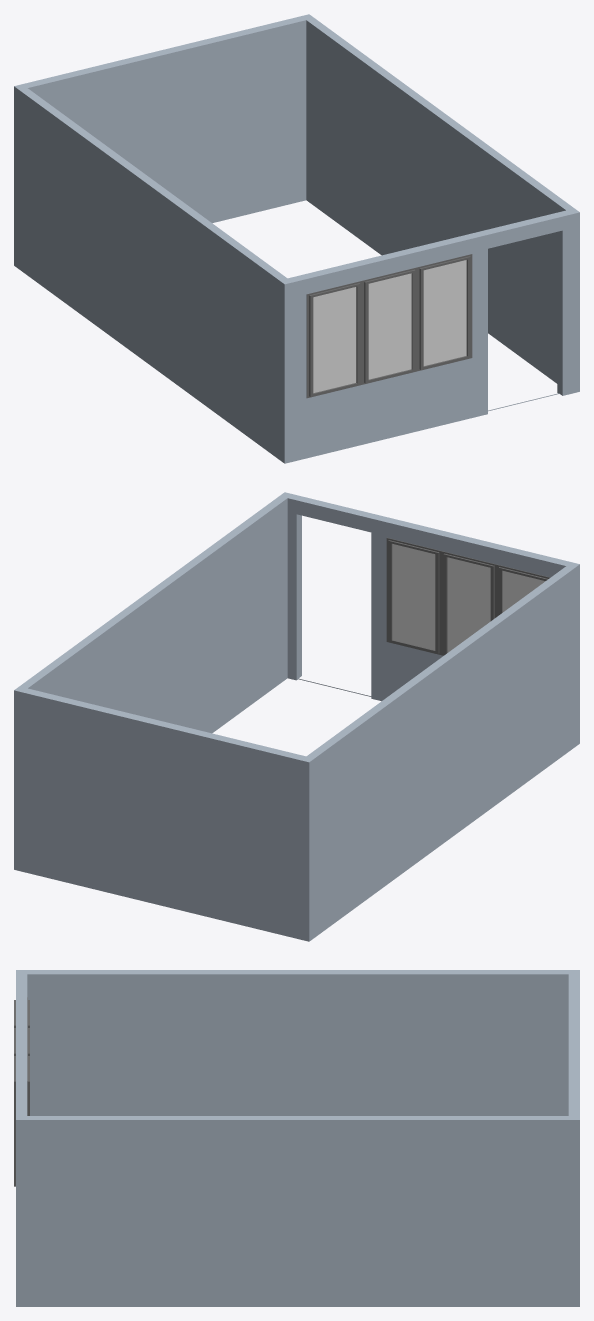
The model's file is Walls.fbx.
3 renders of one model, top to bottom at view 1: azimuth 30°, elevation 25°; view 2: azimuth 150°, elevation 25°; view 3: azimuth 270°, elevation 25°, orthographic. The views are drawn at different scales.
Parts seen in each view (by area): view 1: Cube.006, Cube.003, Cube, Cube.007, Plane; view 2: Cube, Cube.006, Cube.003, Cube.007, Plane; view 3: Cube.003, Cube.006, Cube.007, Cube, Plane.
Part boxes in pixels (x1,y1,x2,y2): Cube.006: [14, 86, 287, 463]; Cube.003: [306, 14, 579, 383]; Cube: [14, 14, 308, 223]; Cube.007: [284, 210, 579, 463]; Plane: [306, 254, 472, 398]; Cube: [14, 688, 309, 941]; Cube.006: [306, 564, 579, 941]; Cube.003: [14, 492, 287, 733]; Cube.007: [285, 492, 579, 701]; Plane: [386, 537, 549, 655]; Cube.003: [16, 1116, 579, 1306]; Cube.006: [16, 970, 579, 1115]; Cube.007: [16, 970, 27, 1119]; Cube: [568, 970, 579, 1119]; Plane: [14, 997, 29, 1186].
Size of the model in its own units: 417 by 243 by 664.
